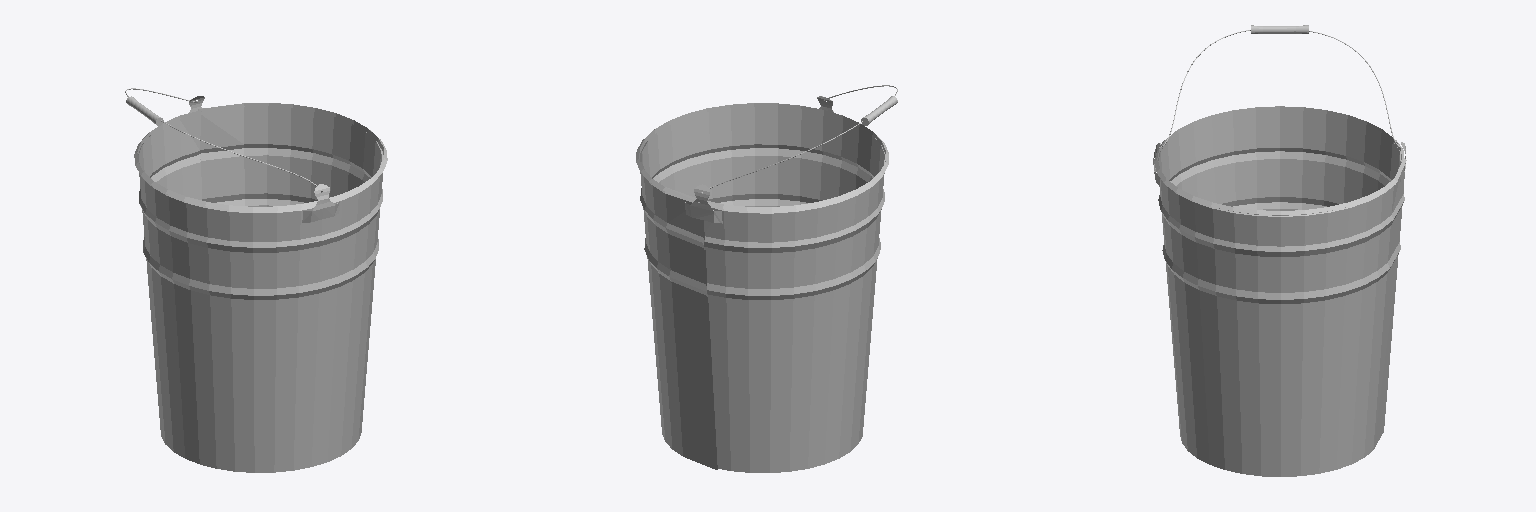
Rendered from OldBucket.obj.
The picture shows the model from 3 angles: view 1: azimuth 30°, elevation 25°; view 2: azimuth 150°, elevation 25°; view 3: azimuth 270°, elevation 25°; orthographic projection.
Parts seen in each view (by area): view 1: bucket_UV.001, bucket_UV.002, bucket_UV; view 2: bucket_UV.001, bucket_UV.002, bucket_UV; view 3: bucket_UV.001, bucket_UV.002, bucket_UV.
Boxes of the visible parts, x1=… form: bucket_UV.001: x1=134, y1=103, x2=387, y2=472; bucket_UV.002: x1=137, y1=106, x2=383, y2=252; bucket_UV: x1=125, y1=88, x2=339, y2=222; bucket_UV.001: x1=636, y1=103, x2=888, y2=472; bucket_UV.002: x1=640, y1=107, x2=885, y2=469; bucket_UV: x1=685, y1=85, x2=897, y2=223; bucket_UV.001: x1=1154, y1=106, x2=1406, y2=476; bucket_UV.002: x1=1158, y1=110, x2=1402, y2=216; bucket_UV: x1=1153, y1=30, x2=1405, y2=186.
Size of the model in its own units: 2.73 by 3.99 by 2.6.